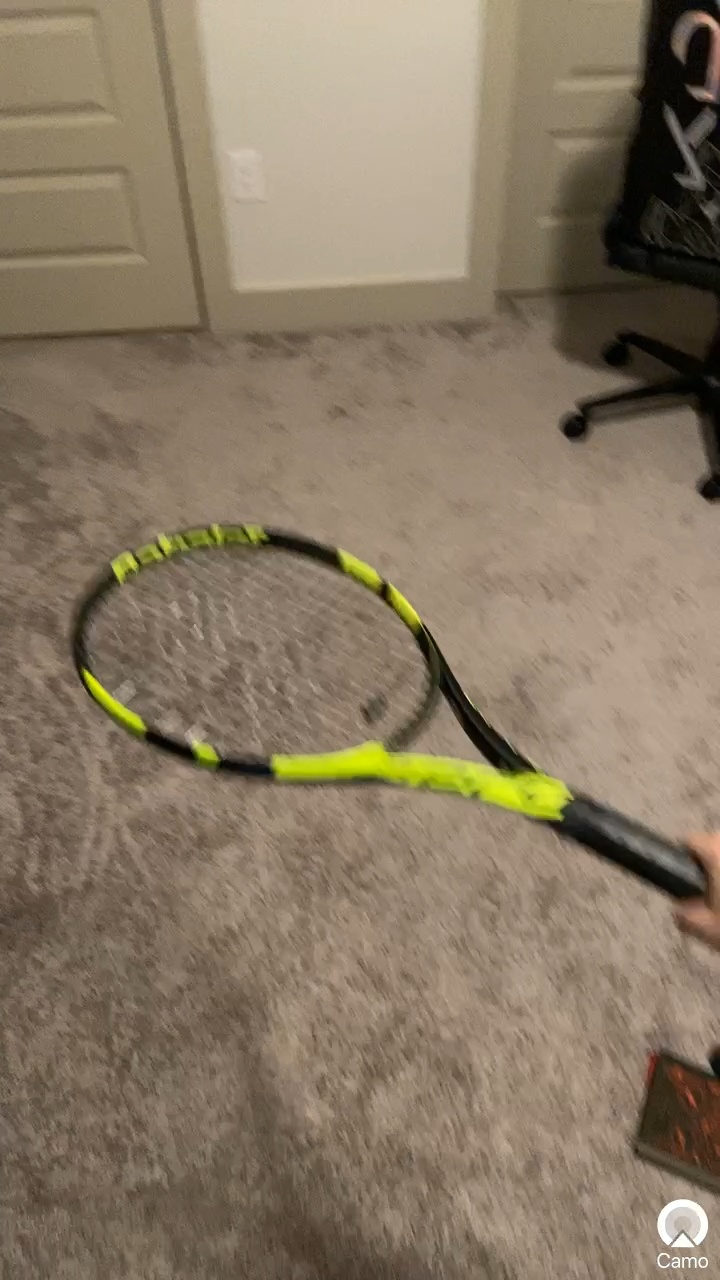Tennis_Racquet: (33, 507, 720, 969)
